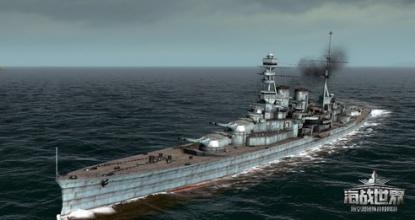warship: (52, 42, 380, 213)
